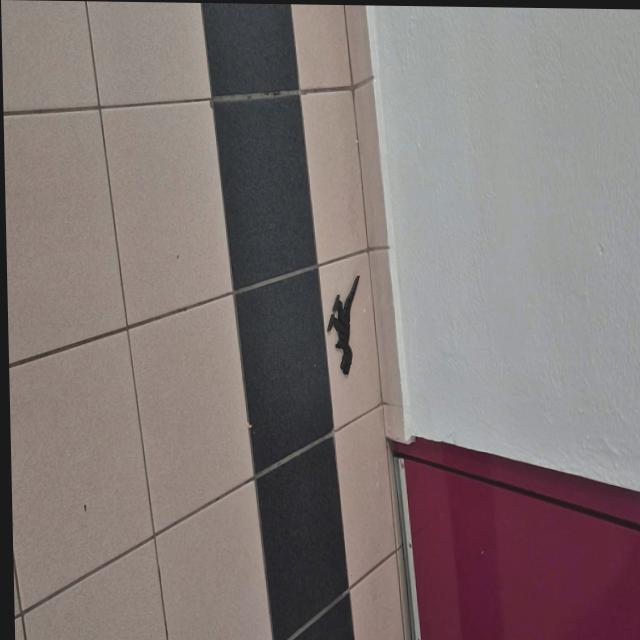dino: (324, 275, 362, 375)
